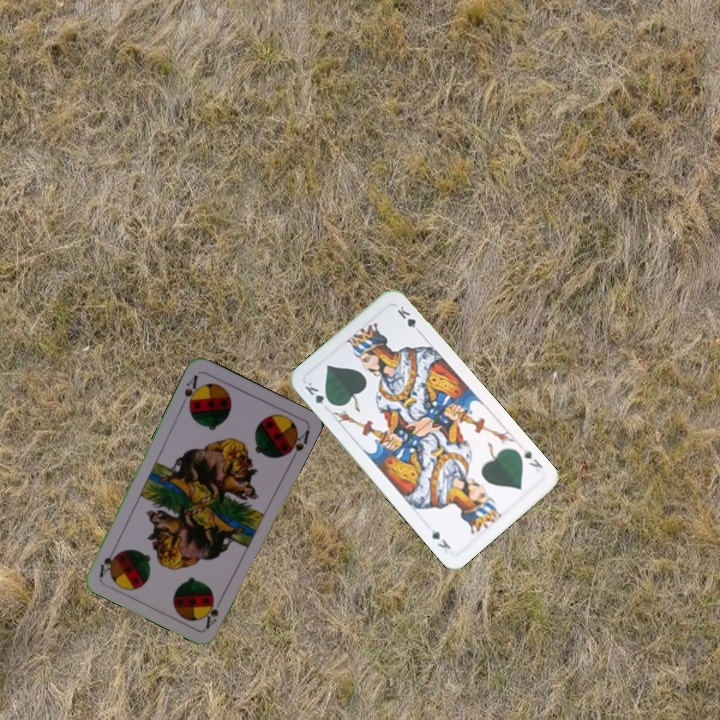GK: (300, 378, 335, 409), (519, 444, 545, 471)
SA: (178, 371, 203, 411), (201, 593, 225, 631)
